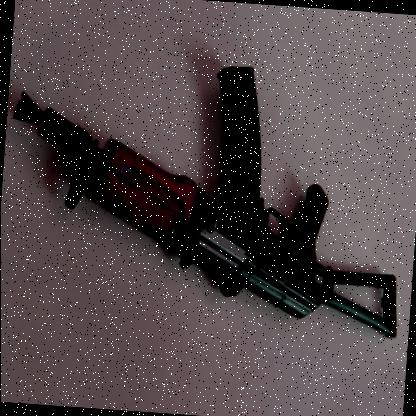rifle: (0, 40, 416, 364)
